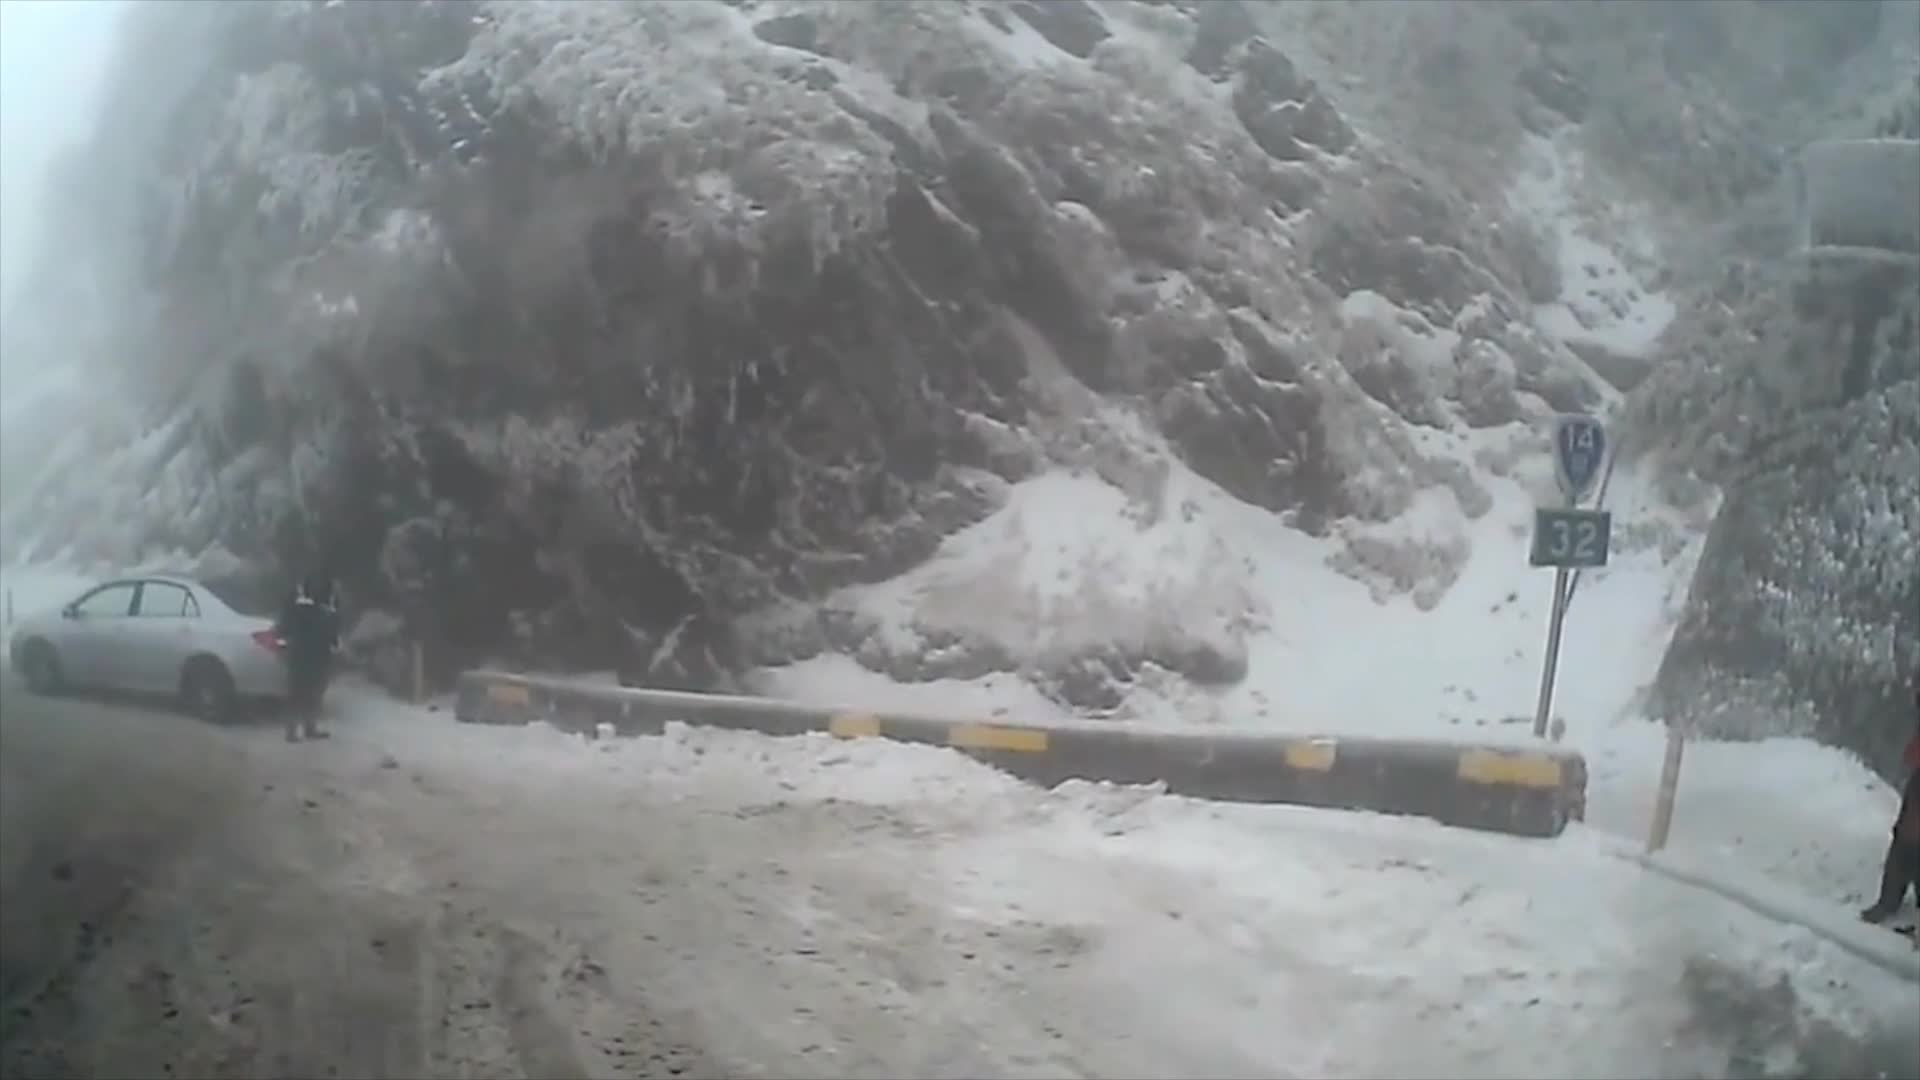pedestrian: (1863, 504, 1919, 944), (272, 554, 337, 740)
vehicle: (7, 571, 320, 724)
